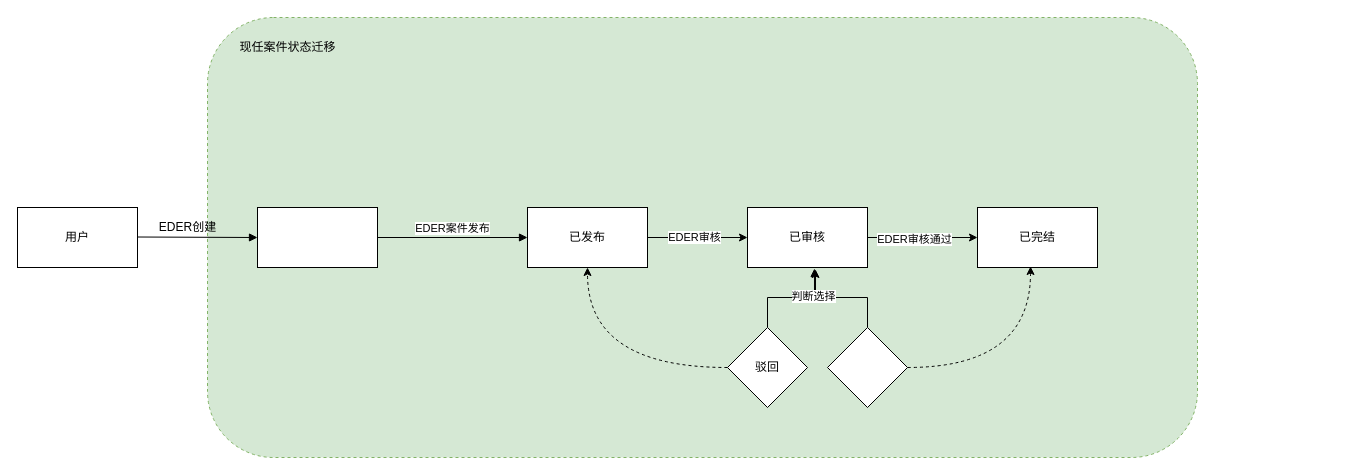
Some shapes in this 1346 by 475 pixel diagram are drawn without their labels. The shapes that lost their labels are listed below. From the top down, each one's centre as x and y in pixels, then its label:
At (x=317, y=237): "已录入".
At (x=867, y=367): "同意".
